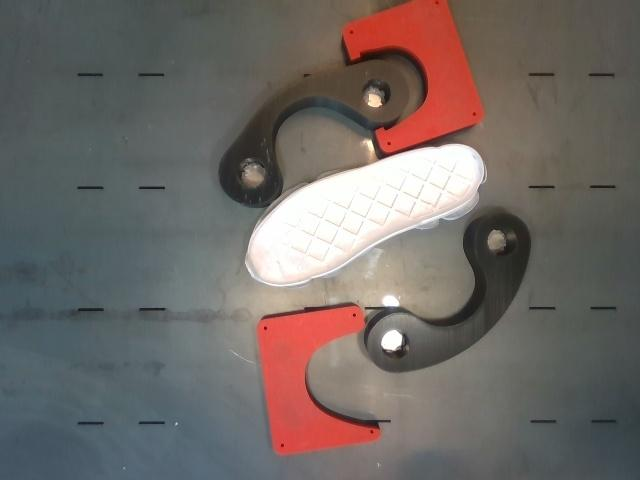shoes: (246, 144, 484, 285)
